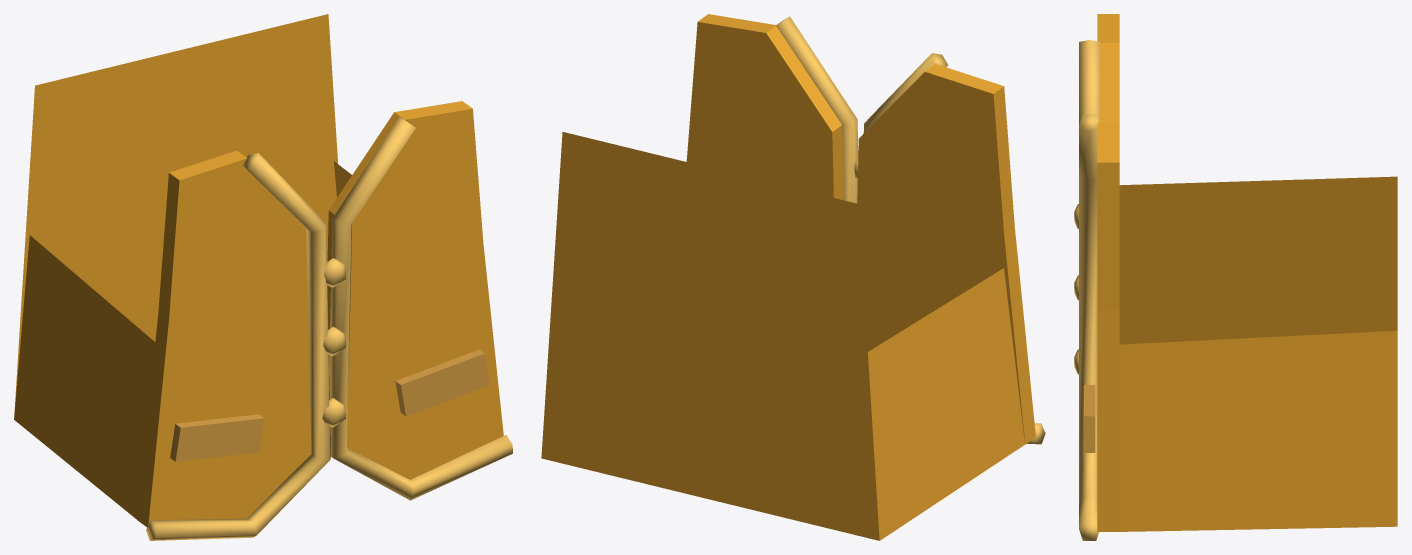
File: hobbit_chaleco.glb
3 views of the same model, side by side, from view 1: azimuth 30°, elevation 25°; view 2: azimuth 150°, elevation 25°; view 3: azimuth 270°, elevation 25° (orthographic). The views are drawn at different scales.
Parts seen in each view (by area): view 1: hobbit_chaleco; view 2: hobbit_chaleco; view 3: hobbit_chaleco.
Boxes of the visible parts, left/top/right/bottom form: hobbit_chaleco: left=14, top=14, right=512, bottom=540; hobbit_chaleco: left=541, top=14, right=1045, bottom=540; hobbit_chaleco: left=1074, top=14, right=1397, bottom=540.
Bounding box in the file's own units: 0.6867 × 0.6992 × 0.5145.
